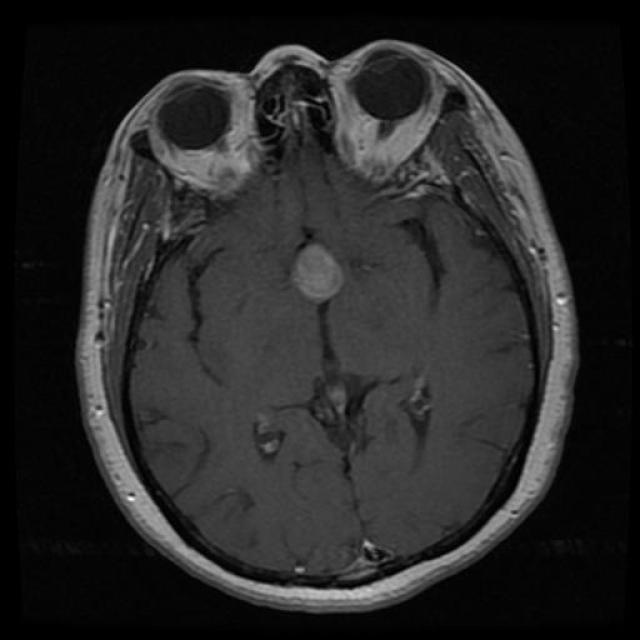pituitary: (280, 231, 362, 311)
